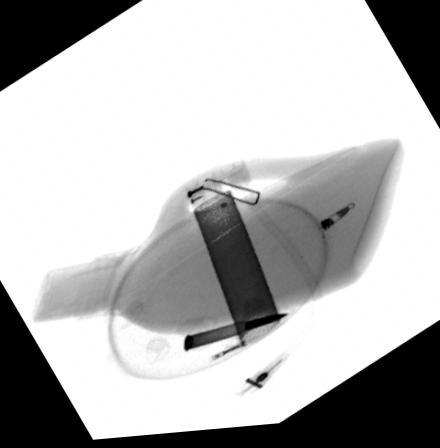Bullet: (182, 317, 290, 355)
